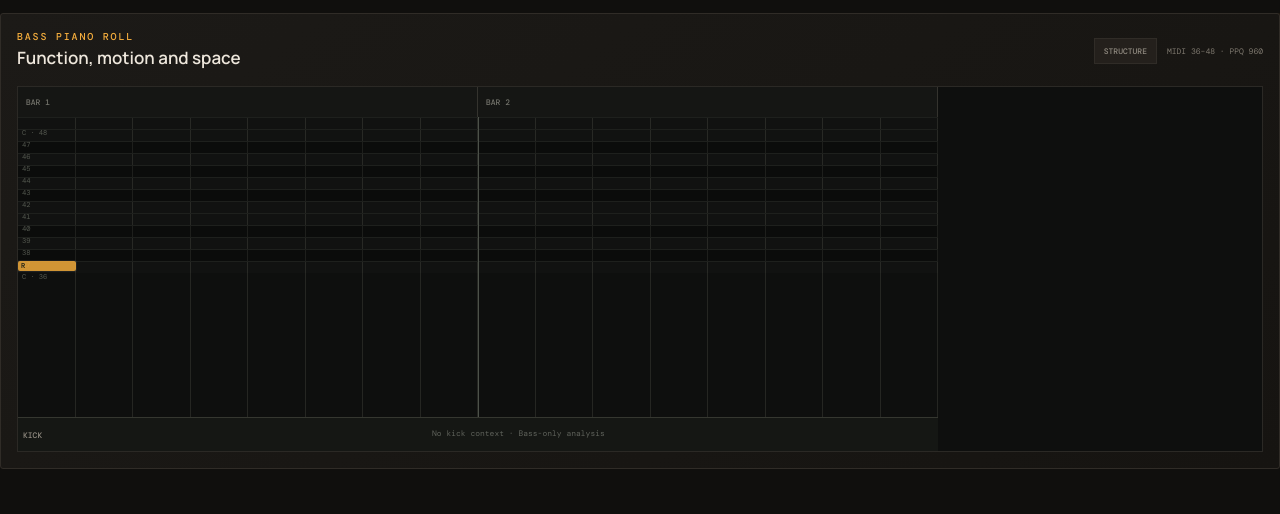
Test: BassPianoRoll › renders structural events in the optional preview strip
The width and height of the screenshot is (1280, 514).
Click the button "STRUCTURE". click: x=1125, y=51
box: [1094,38,1157,64]
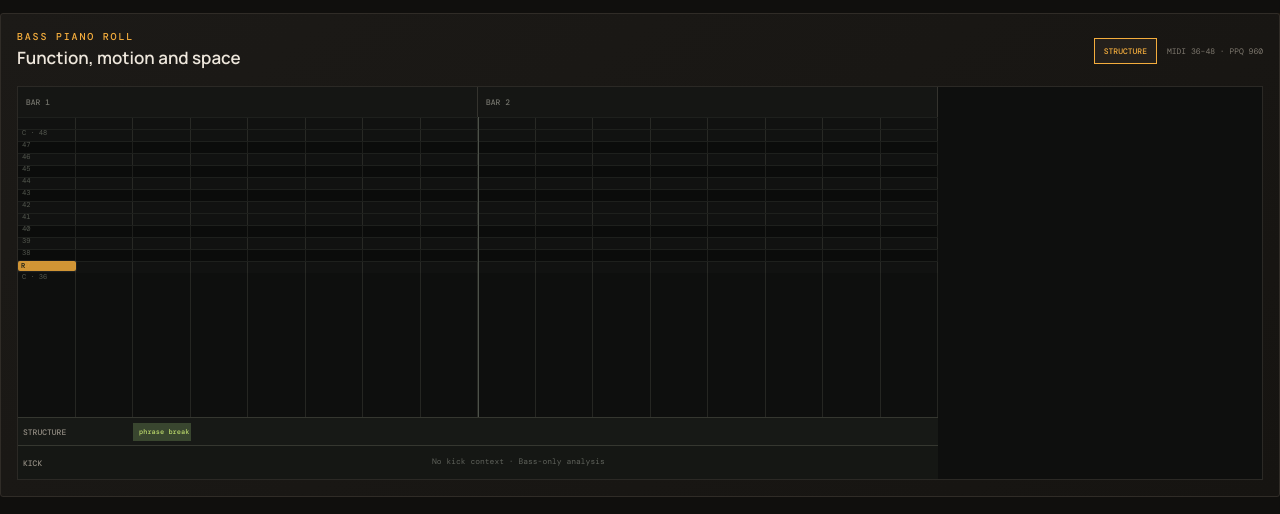
Expected: the text titled "phrase break" is shown, [133,423,190,441]
